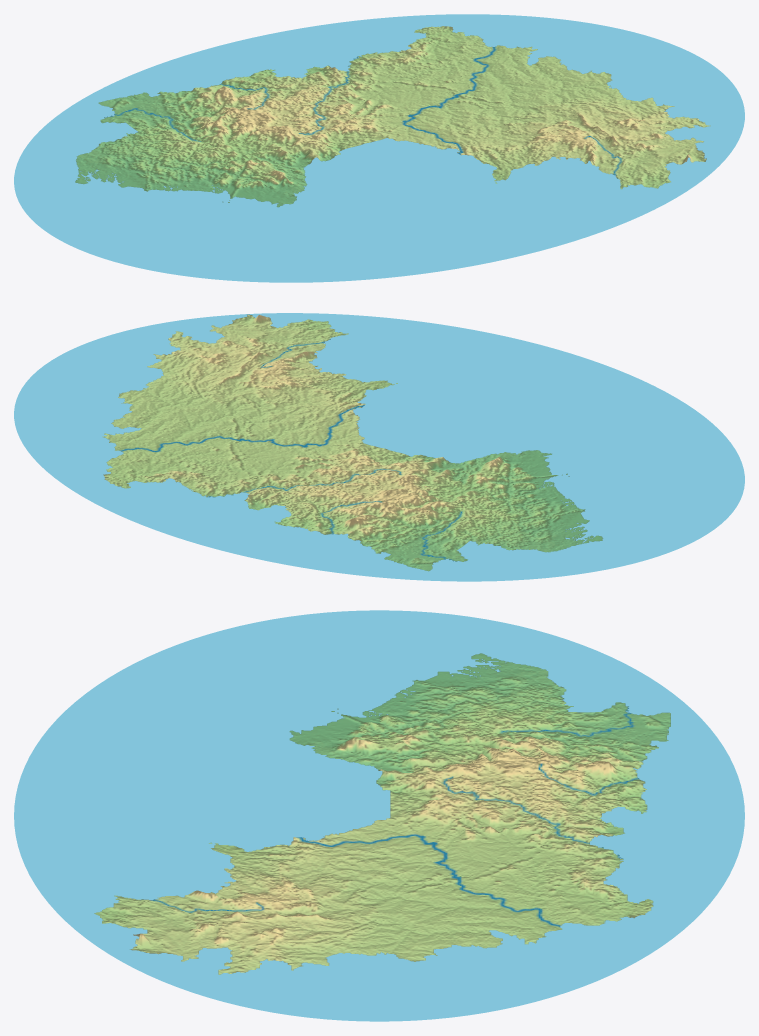
File: GIN-terrain.glb
3 renders of one model, top to bottom at view 1: azimuth 30°, elevation 25°; view 2: azimuth 150°, elevation 25°; view 3: azimuth 270°, elevation 25°, orthographic. The views are drawn at different scales.
Parts seen in each view (by area): view 1: Relevo com hidrografia; view 2: Relevo com hidrografia; view 3: Relevo com hidrografia.
Part boxes in pixels (<box>): Relevo com hidrografia: <box>14,14,744,282</box>; Relevo com hidrografia: <box>14,313,744,581</box>; Relevo com hidrografia: <box>14,610,744,1021</box>.
Bounding box in the file's own units: 2.03 × 0.0329 × 1.52.
Materials: 2 (1 with a texture image).
